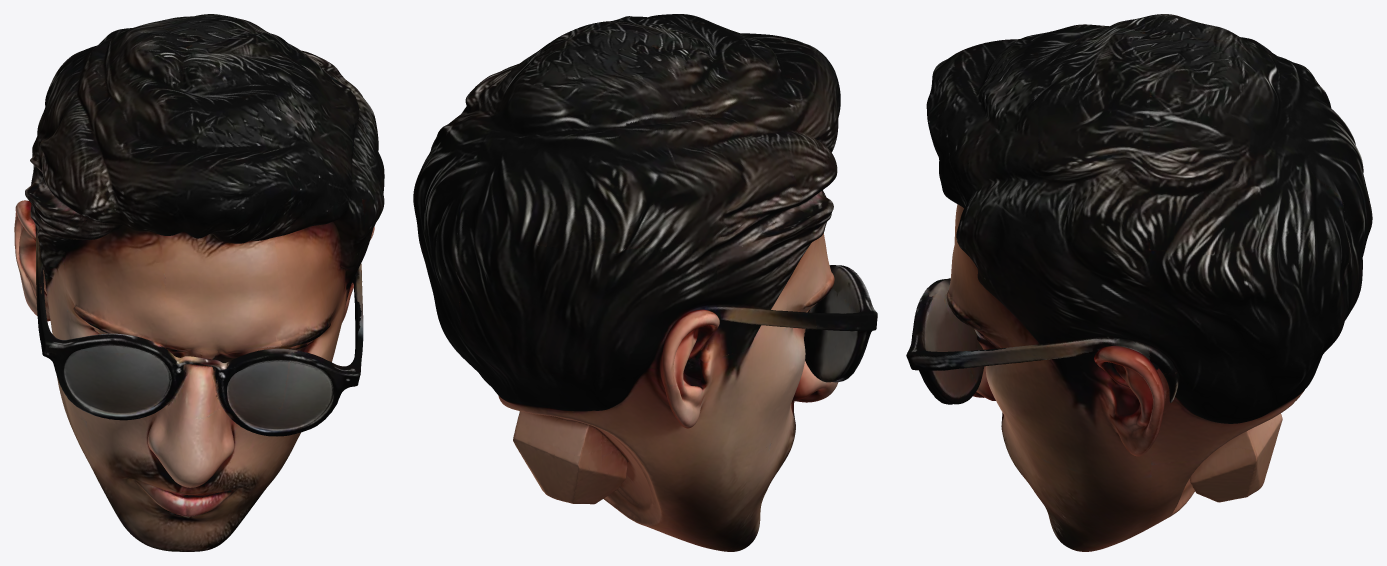
File: Sachin.glb
3 renders of one model, left to right at view 1: azimuth 30°, elevation 25°; view 2: azimuth 150°, elevation 25°; view 3: azimuth 270°, elevation 25°, orthographic. The views are drawn at different scales.
Parts seen in each view (by area): view 1: tmppd5_n4l2obj; view 2: tmppd5_n4l2obj; view 3: tmppd5_n4l2obj.
Boxes of the visible parts, x1=… form: tmppd5_n4l2obj: x1=14, y1=14, x2=384, y2=551; tmppd5_n4l2obj: x1=413, y1=14, x2=877, y2=551; tmppd5_n4l2obj: x1=906, y1=14, x2=1372, y2=551.
Size of the model in its own units: 0.7826 by 1 by 0.8026.
Materials: 1 (1 with a texture image).
